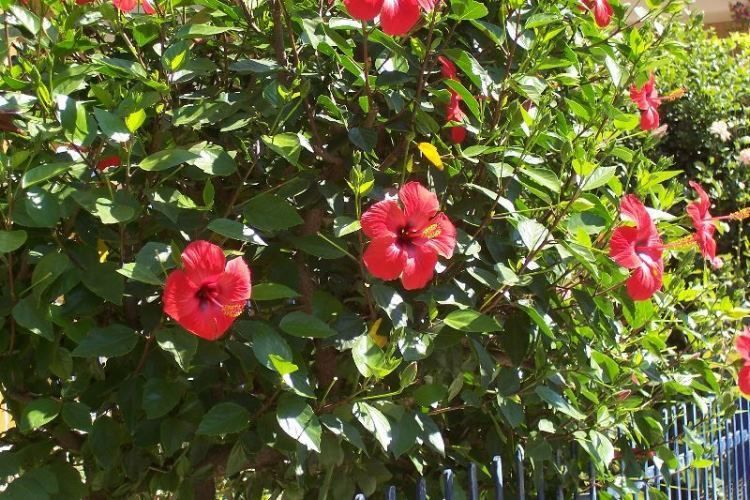Hibiscus-rosa-sinesis: (362, 182, 455, 291), (163, 242, 252, 339), (612, 193, 665, 300), (686, 180, 748, 255), (630, 71, 686, 131)
